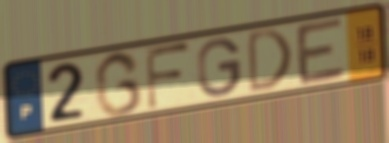2: (47, 59, 93, 127)
D: (245, 25, 294, 97)
E: (293, 14, 349, 88)
F: (143, 40, 194, 113)
G: (93, 48, 145, 119), (195, 36, 243, 100)
